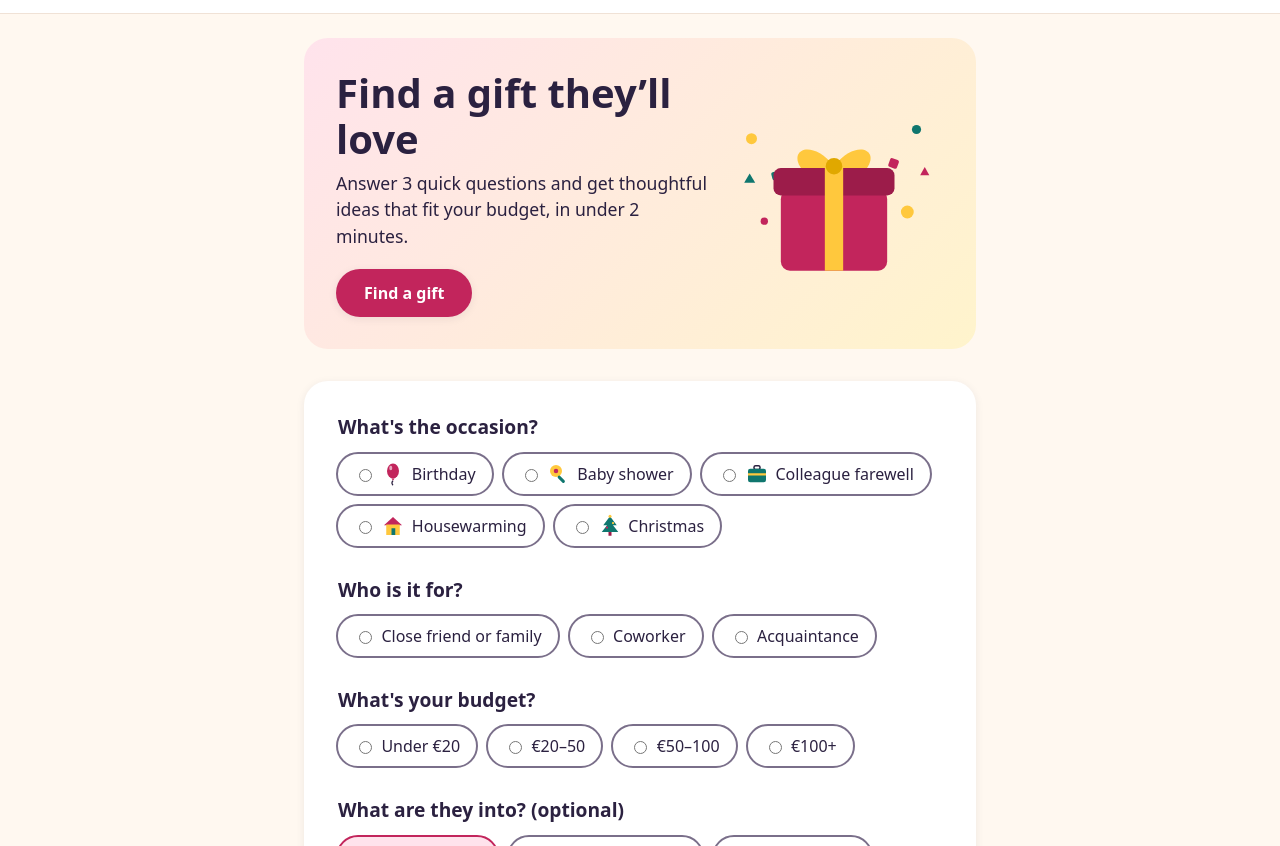
Test: App › shows the matching gift cards after the quiz is submitted
Click the radio button labelled "Birthday" at {"x": 366, "y": 475}, box x1=359 y1=469 x2=372 y2=482
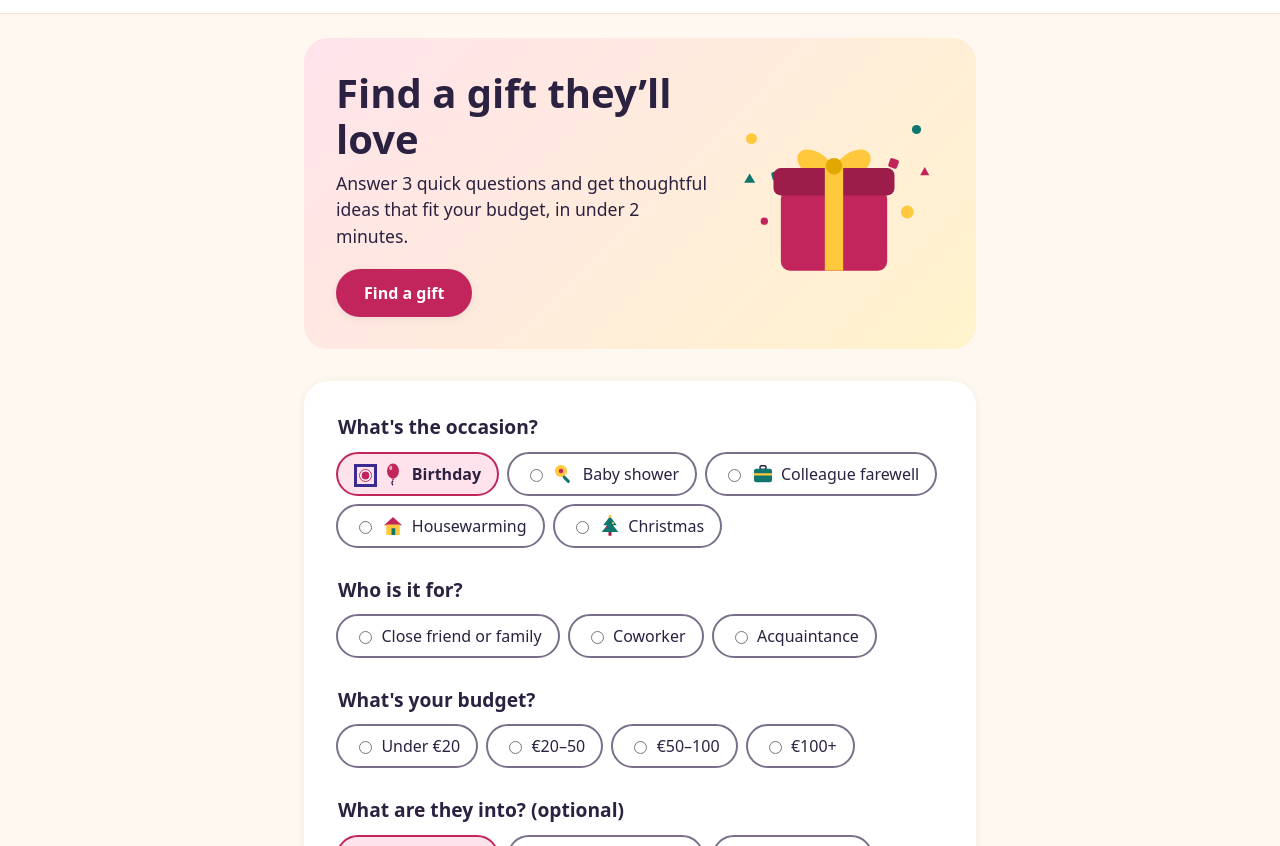
Click the radio button labelled "Coworker" at {"x": 597, "y": 638}, box x1=591 y1=631 x2=604 y2=644
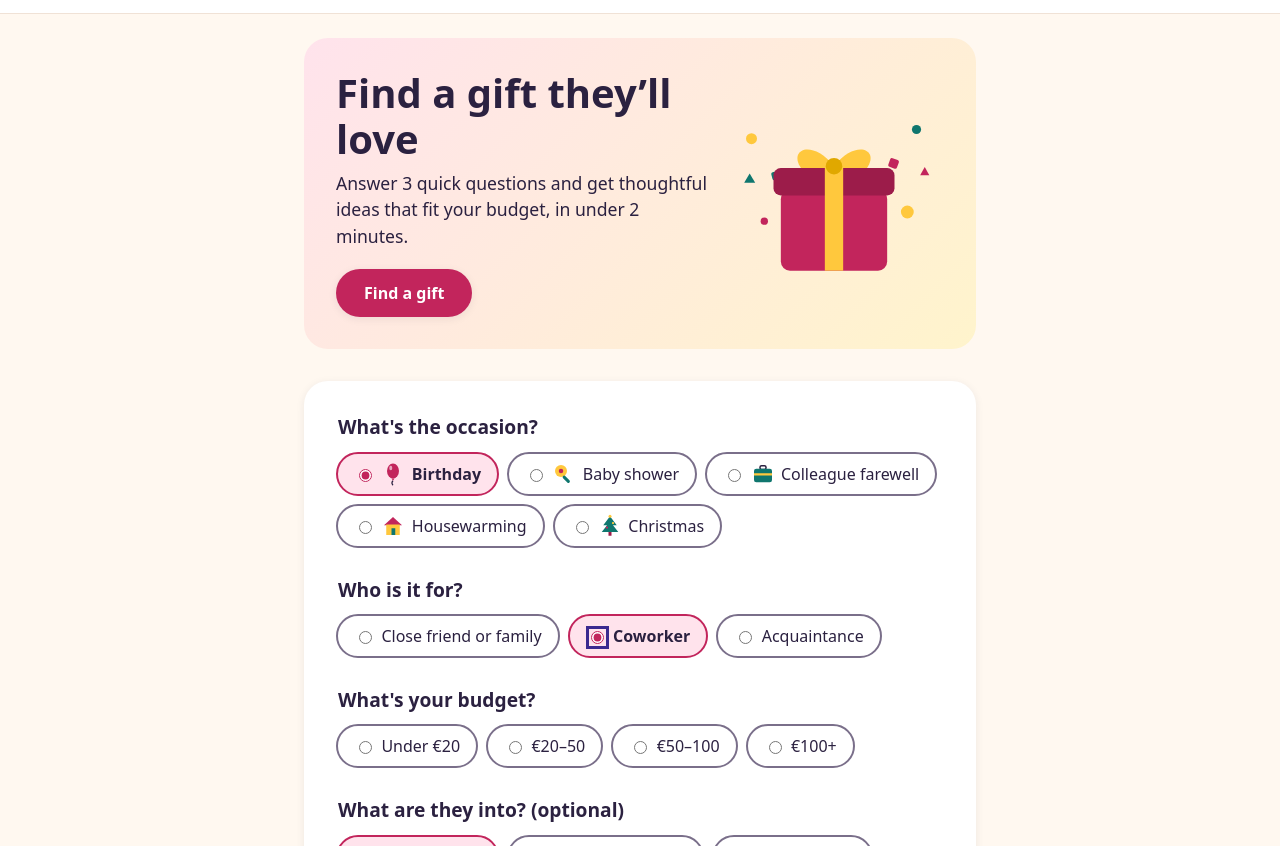
Click the radio button labelled "€20–50" at {"x": 516, "y": 748}, box x1=509 y1=741 x2=522 y2=754
(page scrolled)
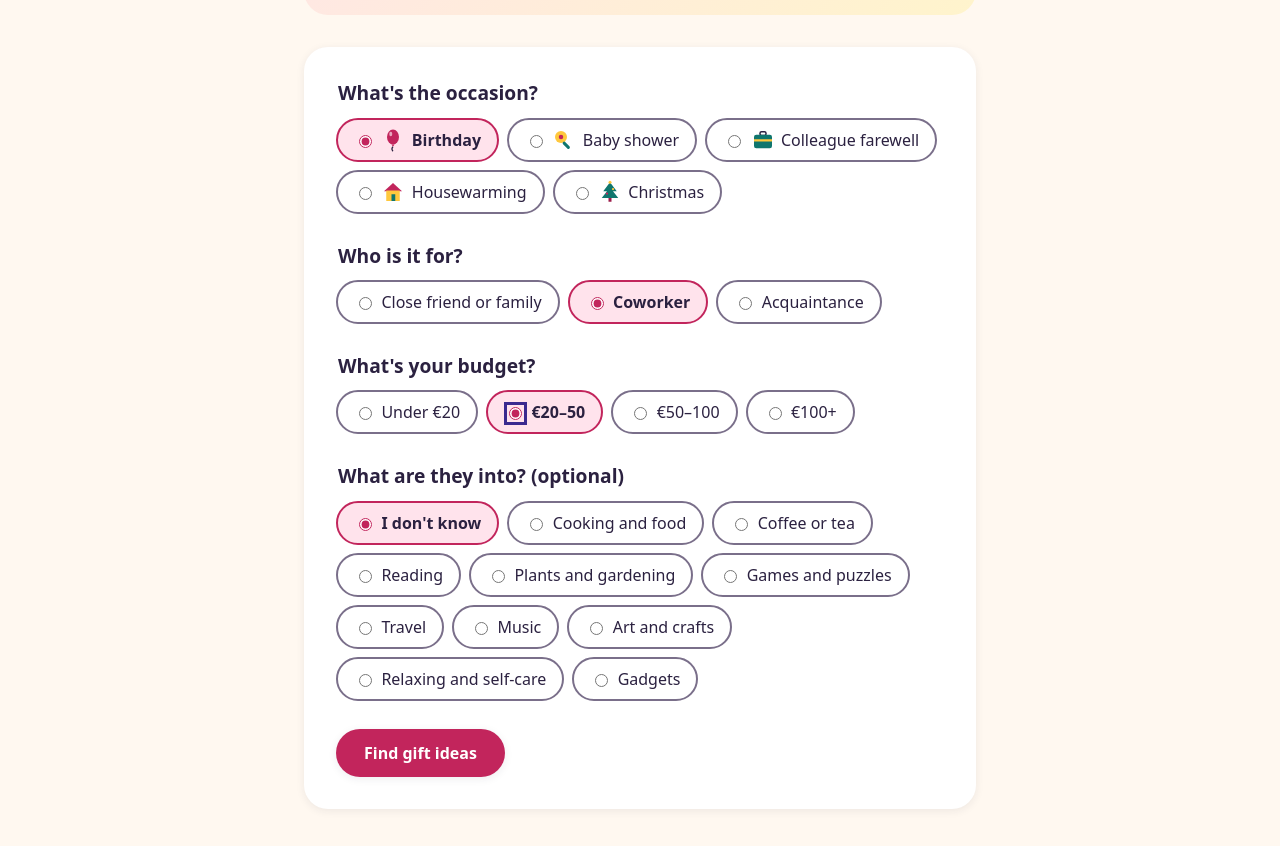
Click the button "Find gift ideas" at {"x": 420, "y": 753}, box x1=336 y1=729 x2=505 y2=777
(page scrolled)
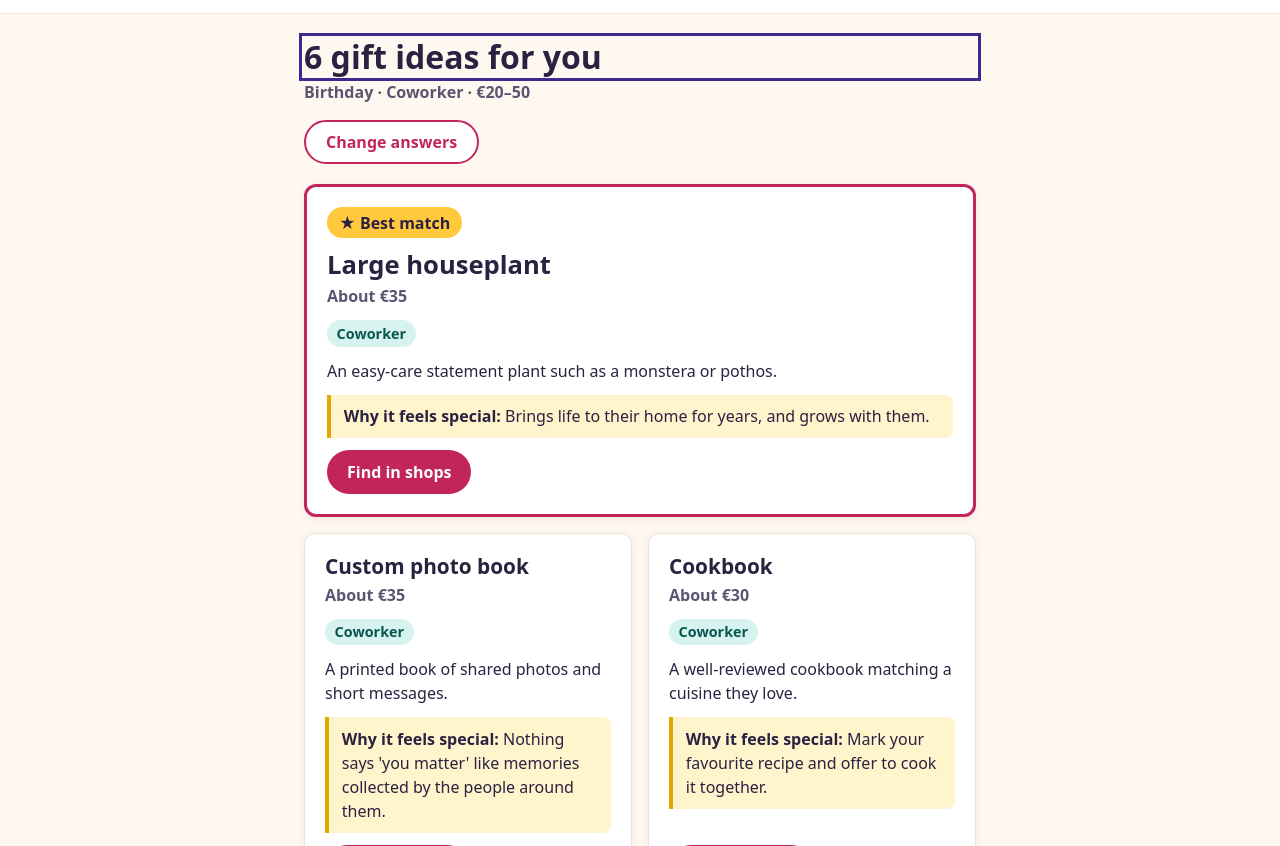
Expected: the text "Birthday · Coworker · €20–50" is shown, x1=304 y1=81 x2=530 y2=103
Expected: the button "Find gift ideas" is gone
